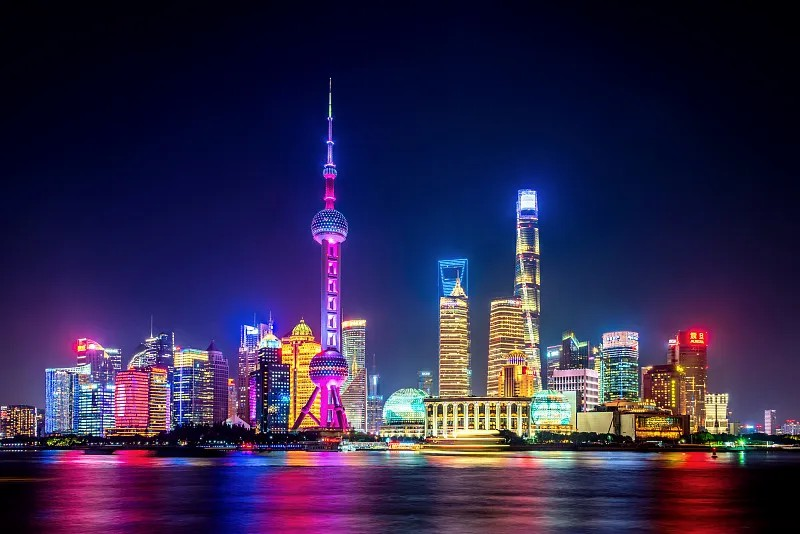Oriental: (292, 76, 349, 427)
